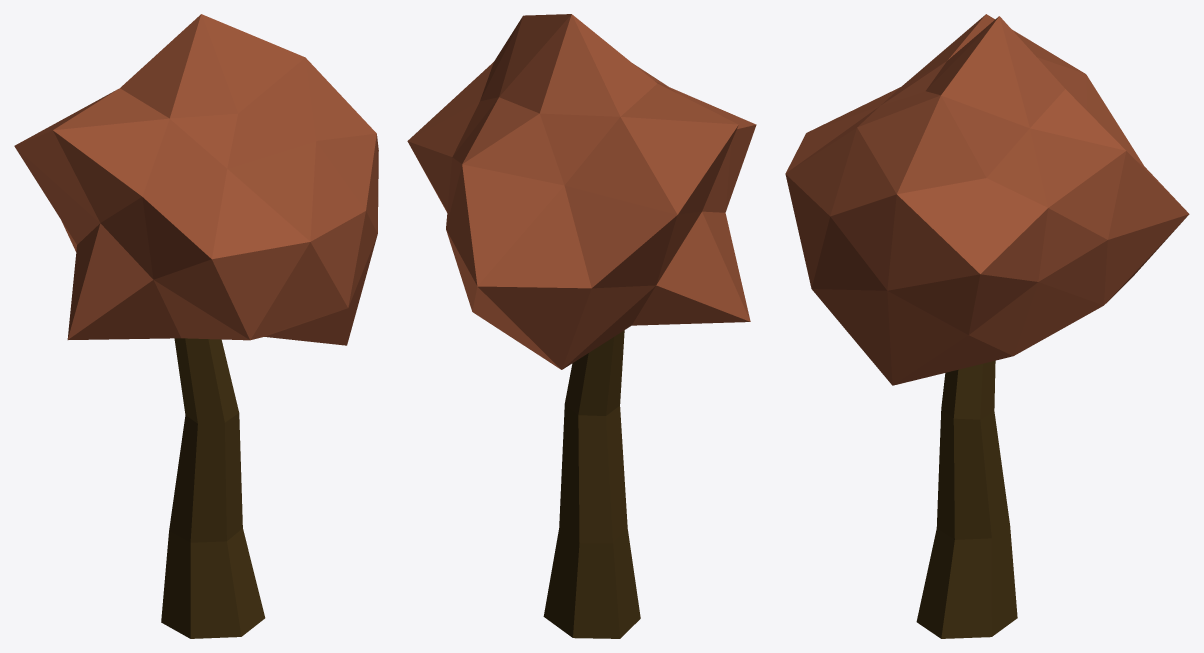
Rendered from red tree.fbx.
The picture shows the model from 3 angles, left to right: view 1: azimuth 30°, elevation 25°; view 2: azimuth 150°, elevation 25°; view 3: azimuth 270°, elevation 25°; orthographic projection. The views are drawn at different scales.
Parts seen in each view (by area): view 1: pPlatonic2, pCylinder3; view 2: pPlatonic2, pCylinder3; view 3: pPlatonic2, pCylinder3.
Boxes of the visible parts, bbox=[...] form: pPlatonic2: bbox=[14, 14, 378, 345]; pCylinder3: bbox=[161, 338, 265, 638]; pPlatonic2: bbox=[407, 14, 756, 369]; pCylinder3: bbox=[543, 330, 640, 638]; pPlatonic2: bbox=[785, 14, 1189, 385]; pCylinder3: bbox=[916, 360, 1017, 638].
Bounding box in the file's own units: 7.53 × 13.25 × 7.97.
